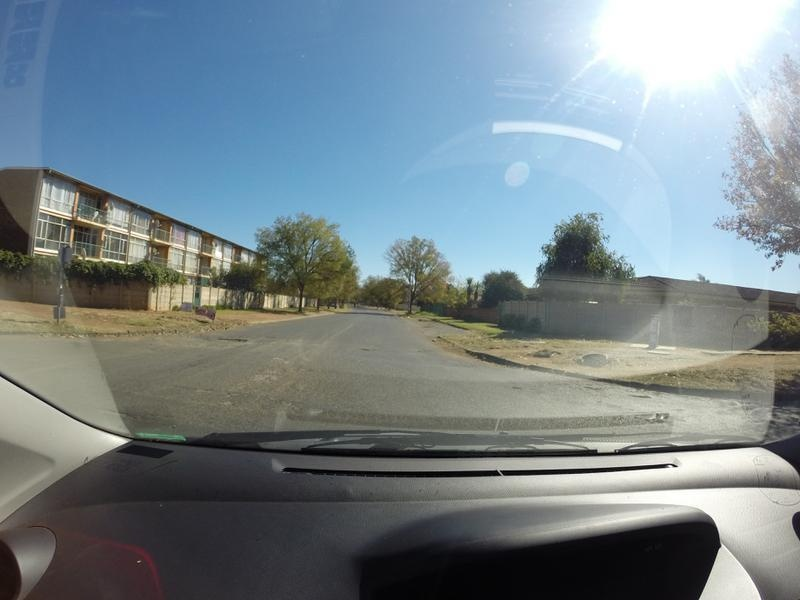pothole: (203, 331, 247, 351), (348, 342, 375, 358)
